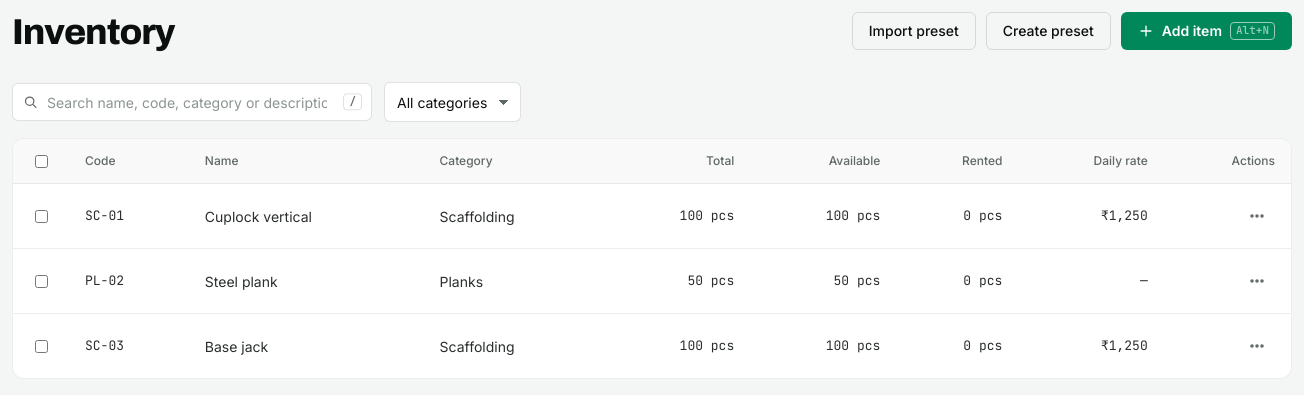
it: InventoryPage › navigates to the item when a row is clicked
Click the text "Steel plank" at coordinates (306, 282), box [189, 249, 424, 314]
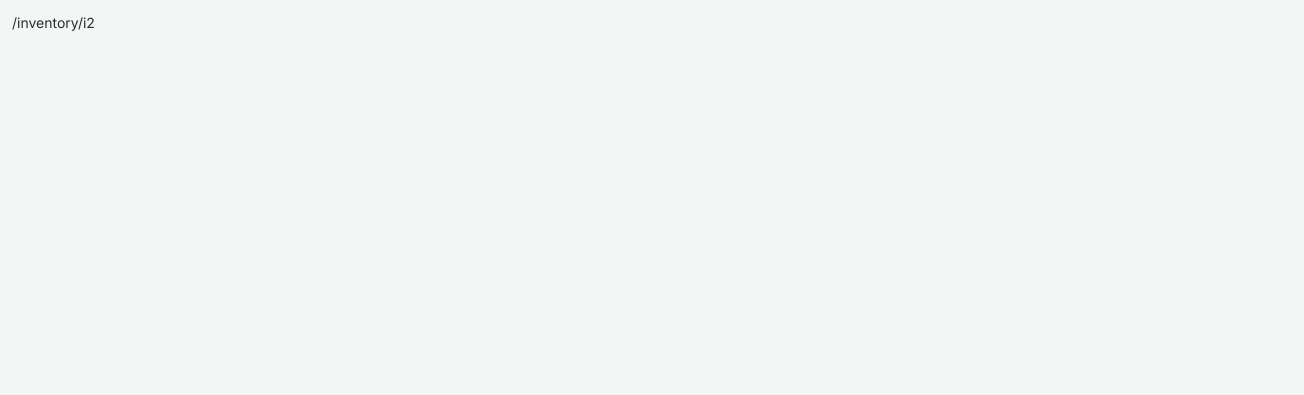
expect the text with test id "where" reads "/inventory/i2": met, box [12, 14, 95, 31]
